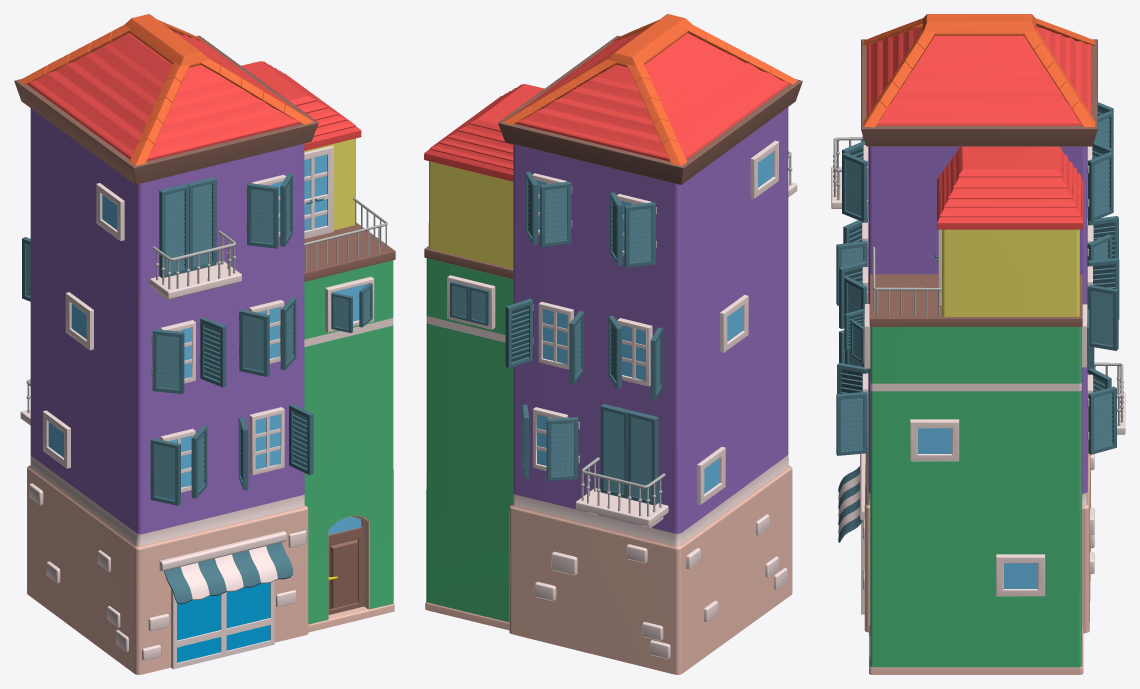
The model's file is City_2_House_1.glb.
The picture shows the model from 3 angles, left to right: view 1: azimuth 30°, elevation 25°; view 2: azimuth 150°, elevation 25°; view 3: azimuth 270°, elevation 25°; orthographic projection.
Visible parts, largest first — view 1: City_2_House_1; view 2: City_2_House_1; view 3: City_2_House_1.
Part boxes in pixels (left/top/right/bottom): City_2_House_1: left=14, top=14, right=395, bottom=674; City_2_House_1: left=424, top=14, right=802, bottom=674; City_2_House_1: left=831, top=14, right=1125, bottom=674.
Bounding box in the file's own units: 7.84 × 15.91 × 7.41.
1 material, 1 textured.
